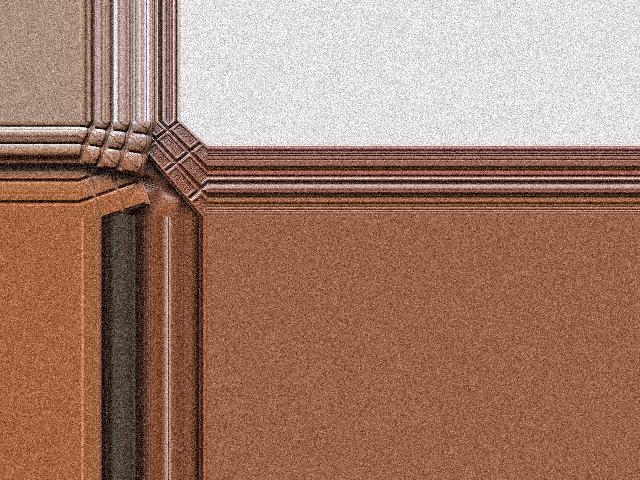chocolate: (78, 155, 148, 211)
